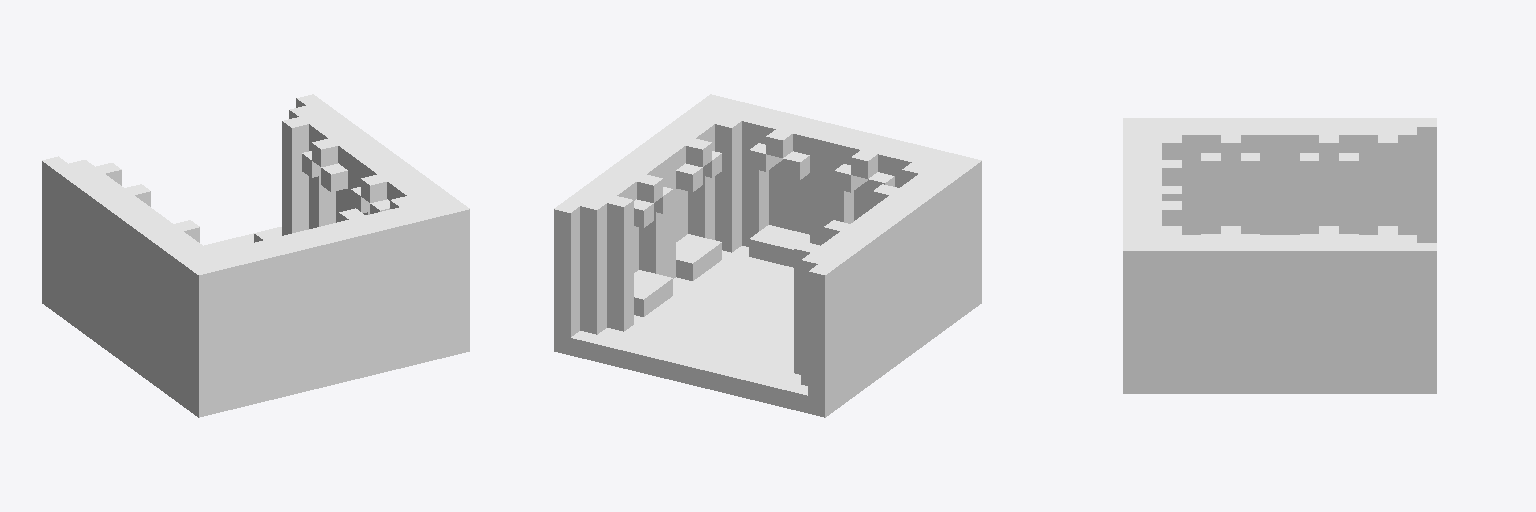
Rendered from towar-12.obj.
3 views of the same model, side by side, from view 1: azimuth 30°, elevation 25°; view 2: azimuth 150°, elevation 25°; view 3: azimuth 270°, elevation 25° (orthographic).
Visible parts, largest first — view 1: towar-12; view 2: towar-12; view 3: towar-12.
Part boxes in pixels (x1,y1,x2,y2): towar-12: (42,94,469,417); towar-12: (554,94,981,417); towar-12: (1123,118,1436,393).
Bounding box in the file's own units: 16 × 8 × 16.